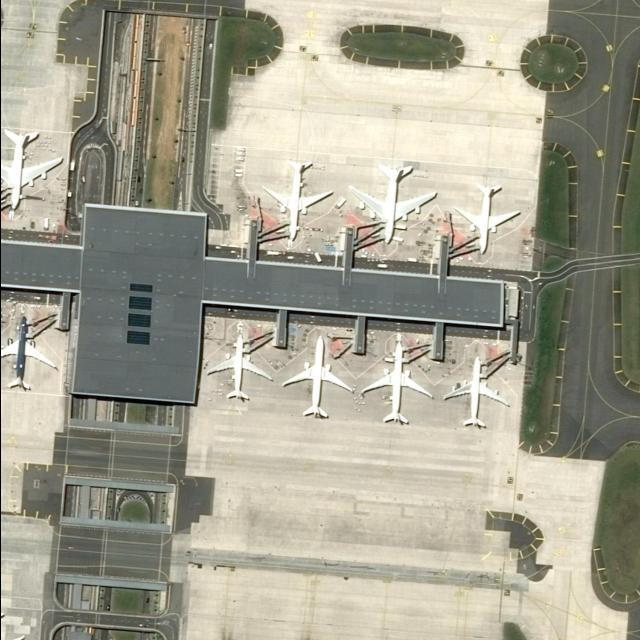Aircraft: (348, 161, 439, 243), (362, 343, 436, 429), (259, 160, 333, 244), (282, 338, 354, 422), (1, 125, 67, 211), (455, 180, 521, 260), (447, 355, 511, 436), (206, 329, 270, 408), (0, 316, 56, 396), (0, 607, 24, 640)
